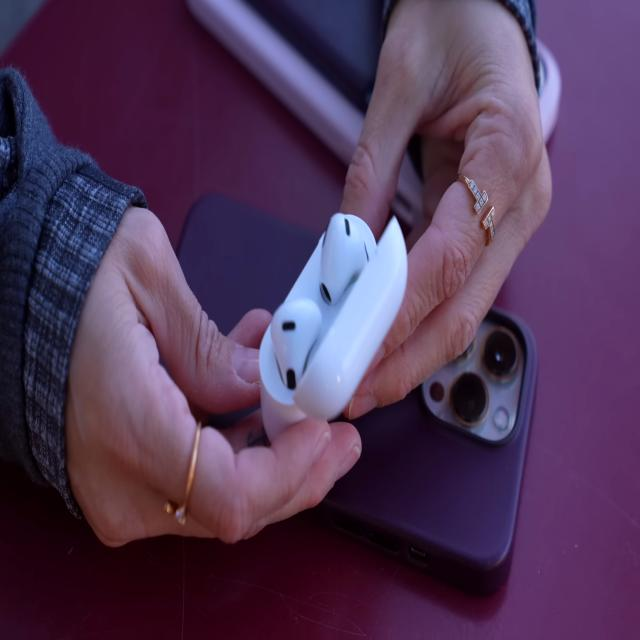airpods: (255, 208, 408, 450)
